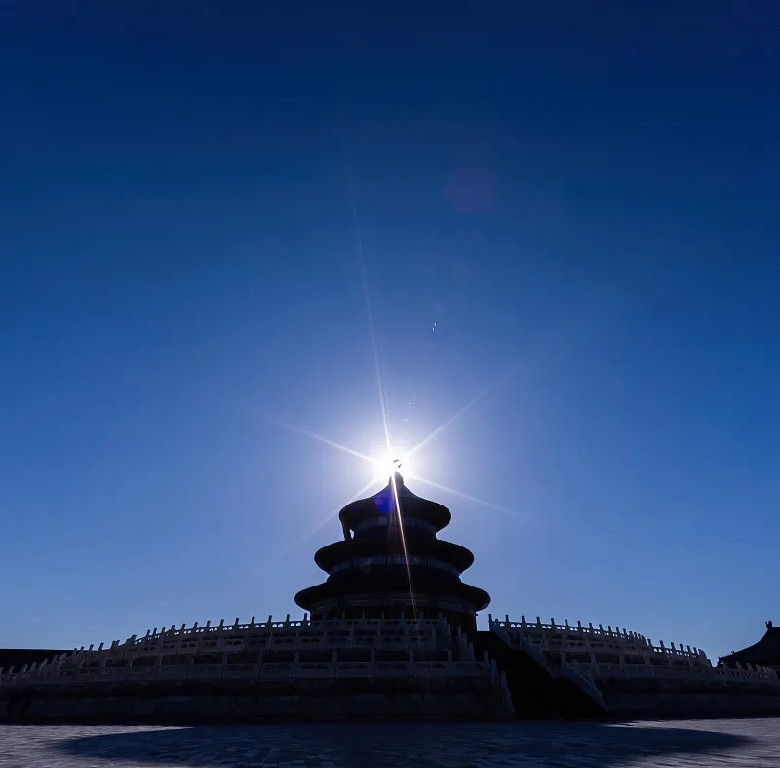Heaven: (293, 469, 491, 632)
